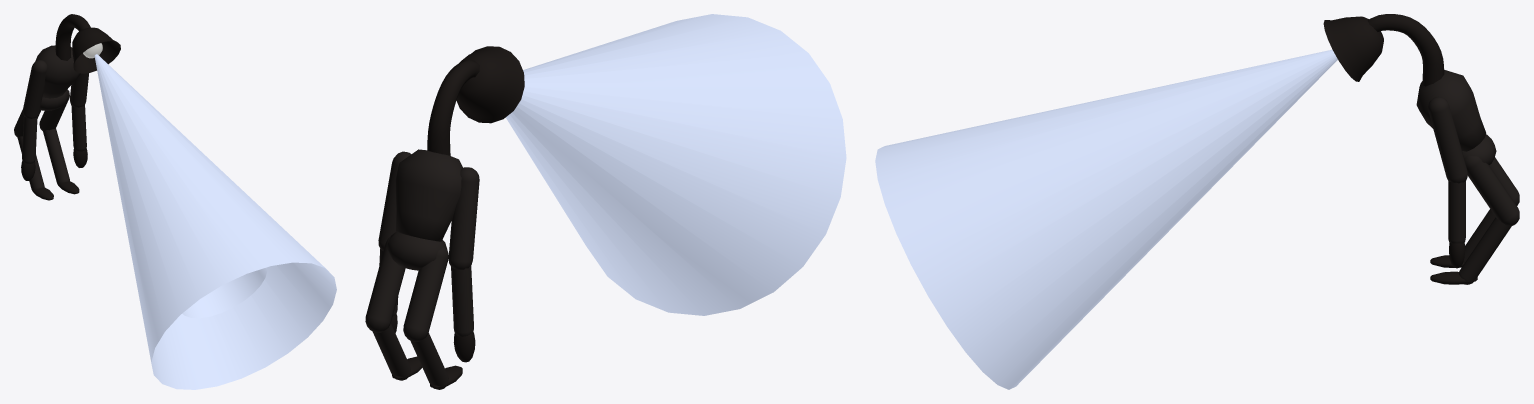
Rendered from veilleur.glb.
3 views of the same model, side by side, from view 1: azimuth 30°, elevation 25°; view 2: azimuth 150°, elevation 25°; view 3: azimuth 270°, elevation 25° (orthographic). The views are drawn at different scales.
Visible parts, largest first — view 1: lamp, elbow (×2), shoulder (×2), torso, knee (×2), neck, hip, pelvis; view 2: lamp, torso, hip (×2), shoulder (×2), neck, knee (×2), elbow, pelvis; view 3: lamp, torso, neck, shoulder, hip, elbow, knee.
Boxes of the visible parts, <box> form: lamp: <box>72,27,336,389</box>; elbow (×2): <box>21,105,87,180</box>; shoulder (×2): <box>22,60,88,118</box>; torso: <box>35,45,80,98</box>; knee (×2): <box>17,128,69,189</box>; neck: <box>55,14,90,60</box>; hip: <box>39,89,69,131</box>; pelvis: <box>40,90,68,110</box>; lamp: <box>456,14,846,315</box>; torso: <box>395,149,462,241</box>; hip (×2): <box>365,236,448,341</box>; shoulder (×2): <box>378,151,479,269</box>; neck: <box>427,60,479,155</box>; knee (×2): <box>372,323,448,389</box>; elbow: <box>451,265,475,362</box>; pelvis: <box>386,231,446,270</box>; lamp: <box>875,16,1383,389</box>; torso: <box>1416,70,1486,151</box>; neck: <box>1367,14,1444,86</box>; shoulder: <box>1428,96,1467,183</box>; hip: <box>1464,156,1519,226</box>; elbow: <box>1448,181,1465,268</box>; knee: <box>1459,217,1511,284</box>.
Size of the model in its own units: 2.1 by 3.02 by 4.9.
